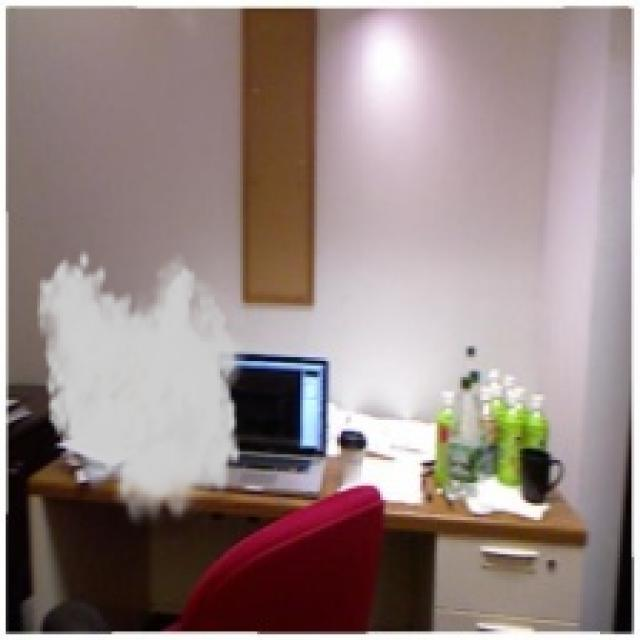Smoke: (34, 248, 254, 532)
